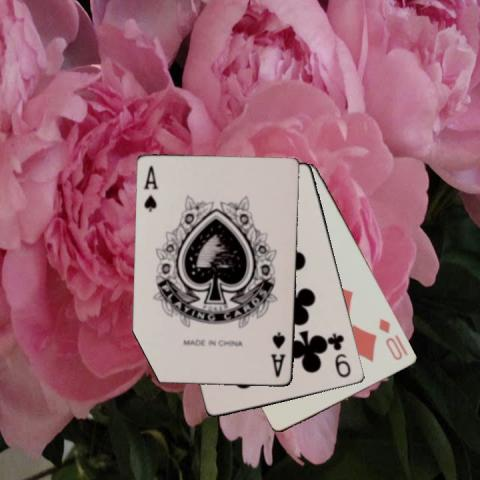10d: (376, 315, 410, 362)
9c: (328, 330, 353, 379)
As: (268, 329, 287, 379), (141, 163, 159, 213)
